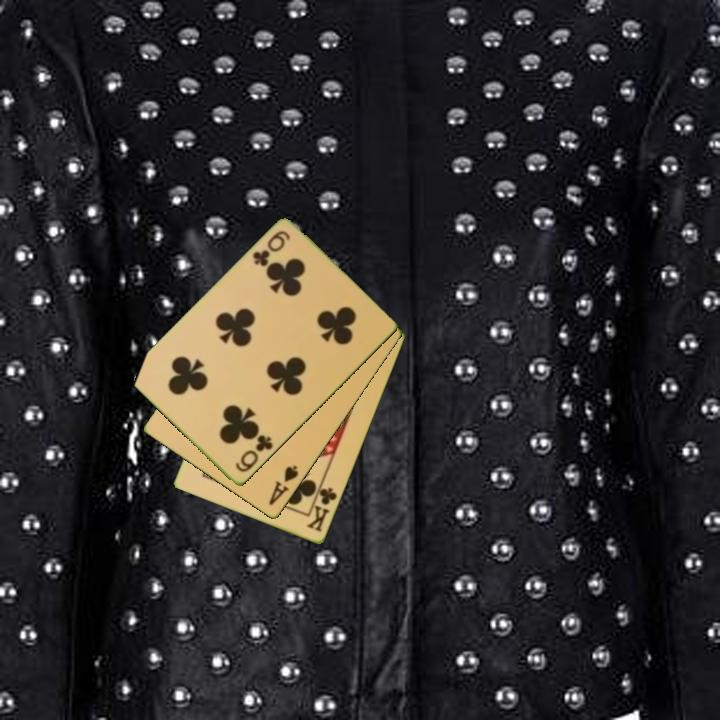6c: (232, 431, 276, 476), (249, 227, 293, 270)
As: (265, 462, 302, 509)
Kc: (303, 479, 340, 535)
